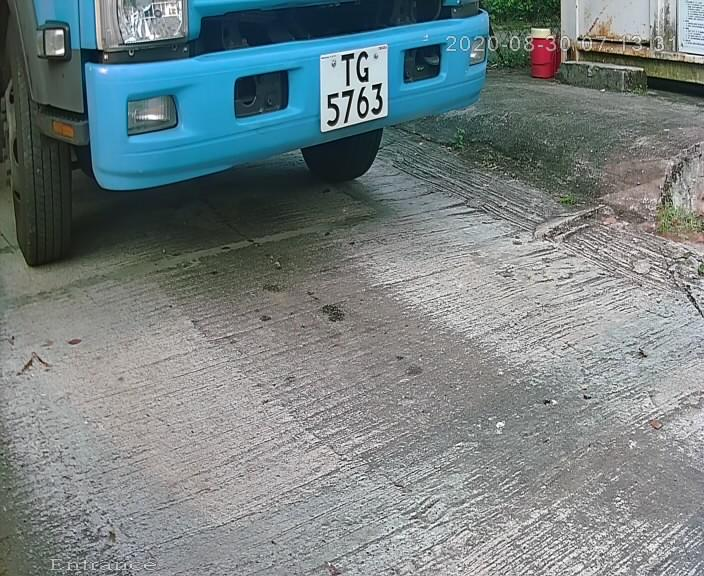Car: (29, 11, 485, 250)
License Plate: (309, 34, 400, 150)
